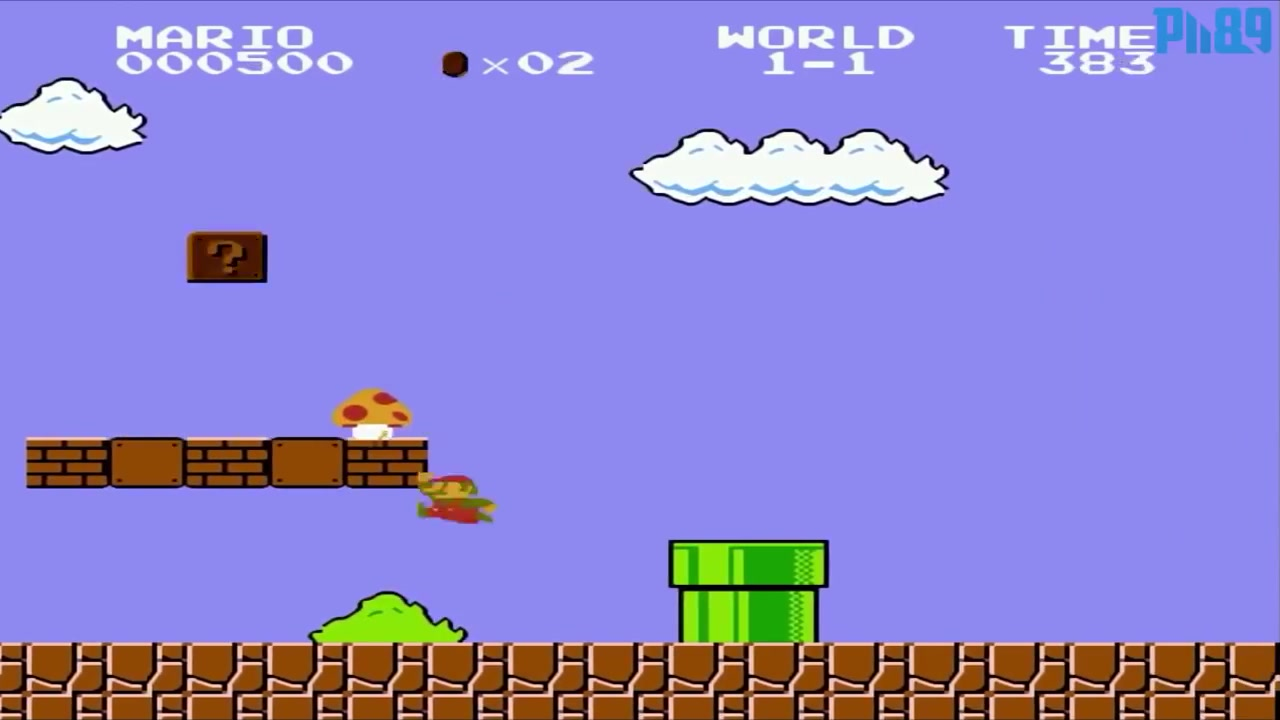mario: (409, 464, 502, 533)
